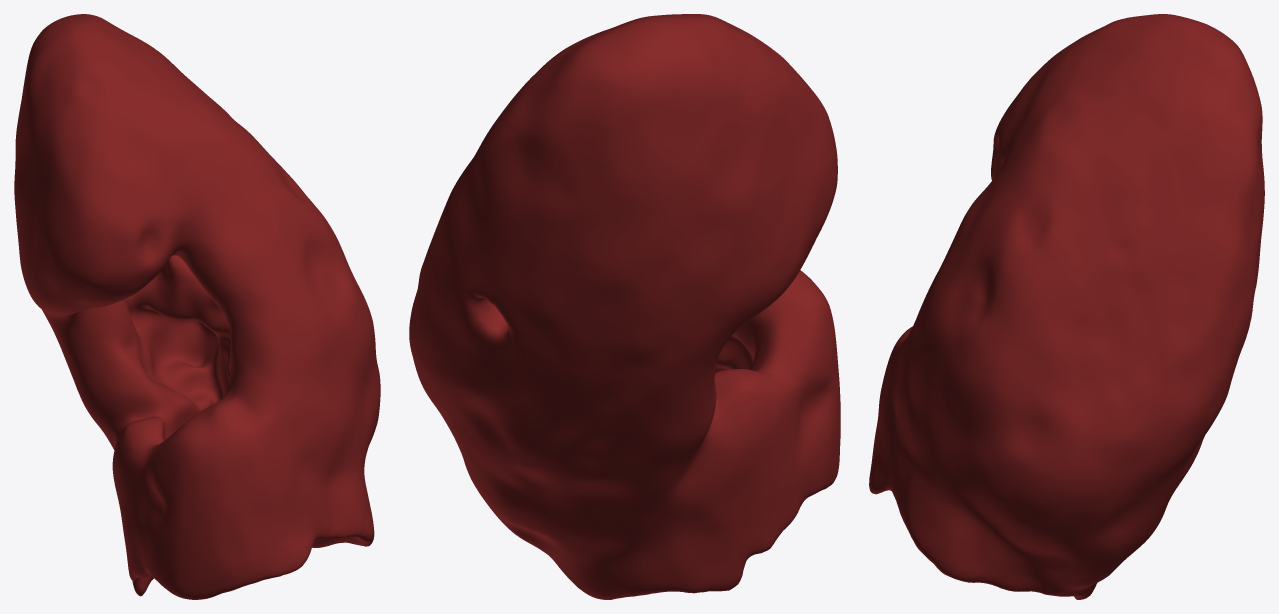
File: 339752704534700_rene.glb
3 renders of one model, left to right at view 1: azimuth 30°, elevation 25°; view 2: azimuth 150°, elevation 25°; view 3: azimuth 270°, elevation 25°, orthographic. The views are drawn at different scales.
Parts seen in each view (by area): view 1: Rene Sx_LDs_Sort; view 2: Rene Sx_LDs_Sort; view 3: Rene Sx_LDs_Sort.
Boxes of the visible parts, <box> form: Rene Sx_LDs_Sort: <box>14,14,380,599</box>; Rene Sx_LDs_Sort: <box>409,14,840,599</box>; Rene Sx_LDs_Sort: <box>869,14,1264,599</box>.
Bounding box in the file's own units: 0.00751 × 0.0121 × 0.00815.
